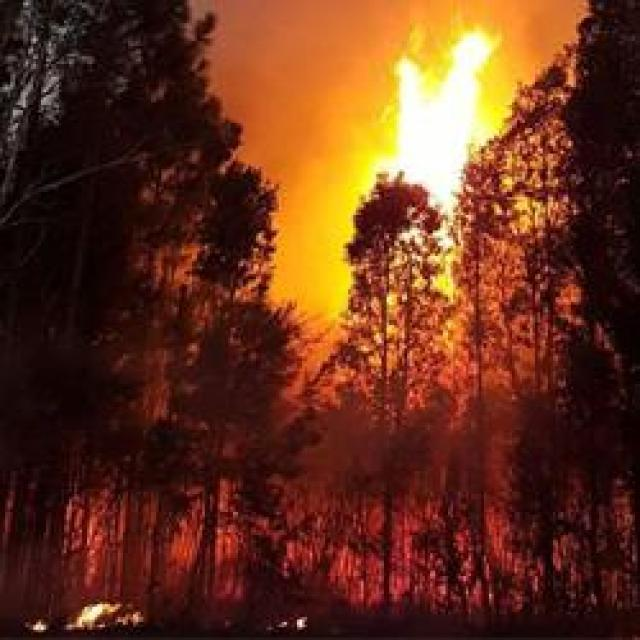Fire: (397, 45, 481, 206), (75, 600, 144, 636)
